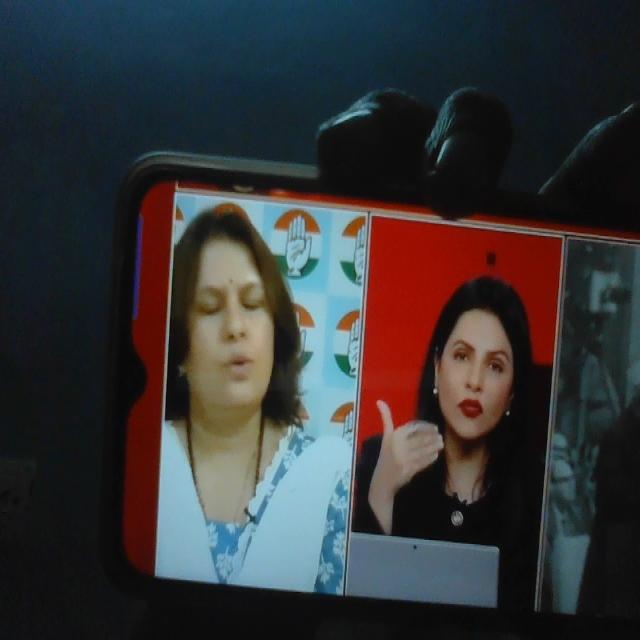fake: (169, 195, 290, 422), (422, 246, 532, 454)
